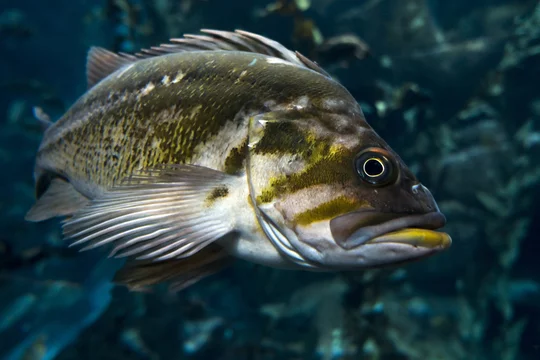Rock Fish: (8, 18, 492, 306)
